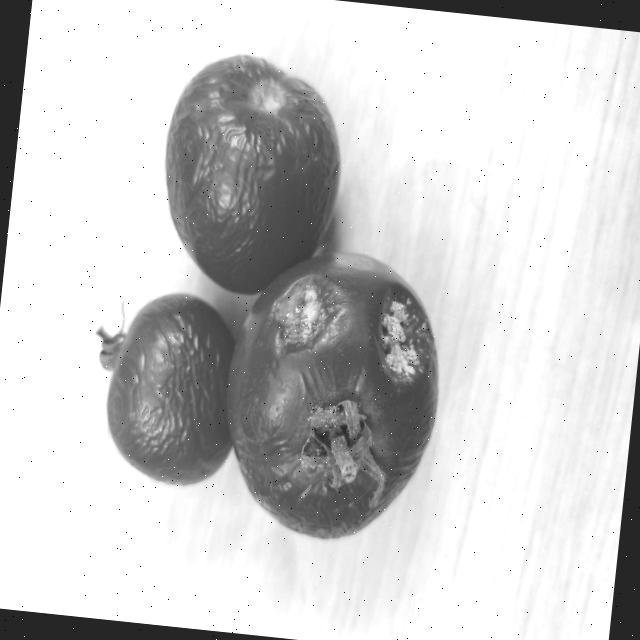Rotten: (210, 238, 452, 553)
overripe: (152, 44, 350, 305)
